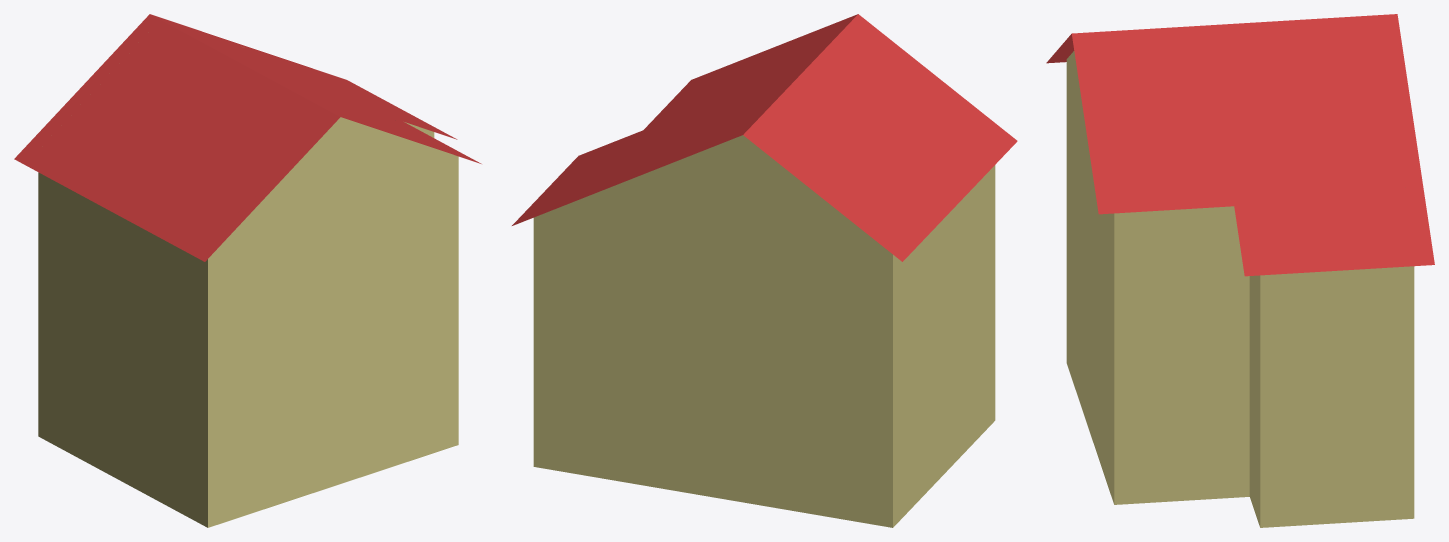
The picture shows the model from 3 angles, left to right: view 1: azimuth 30°, elevation 25°; view 2: azimuth 150°, elevation 25°; view 3: azimuth 270°, elevation 25°; orthographic projection. The views are drawn at different scales.
Bounding box in the file's own units: 12.89 × 10.62 × 12.05.
